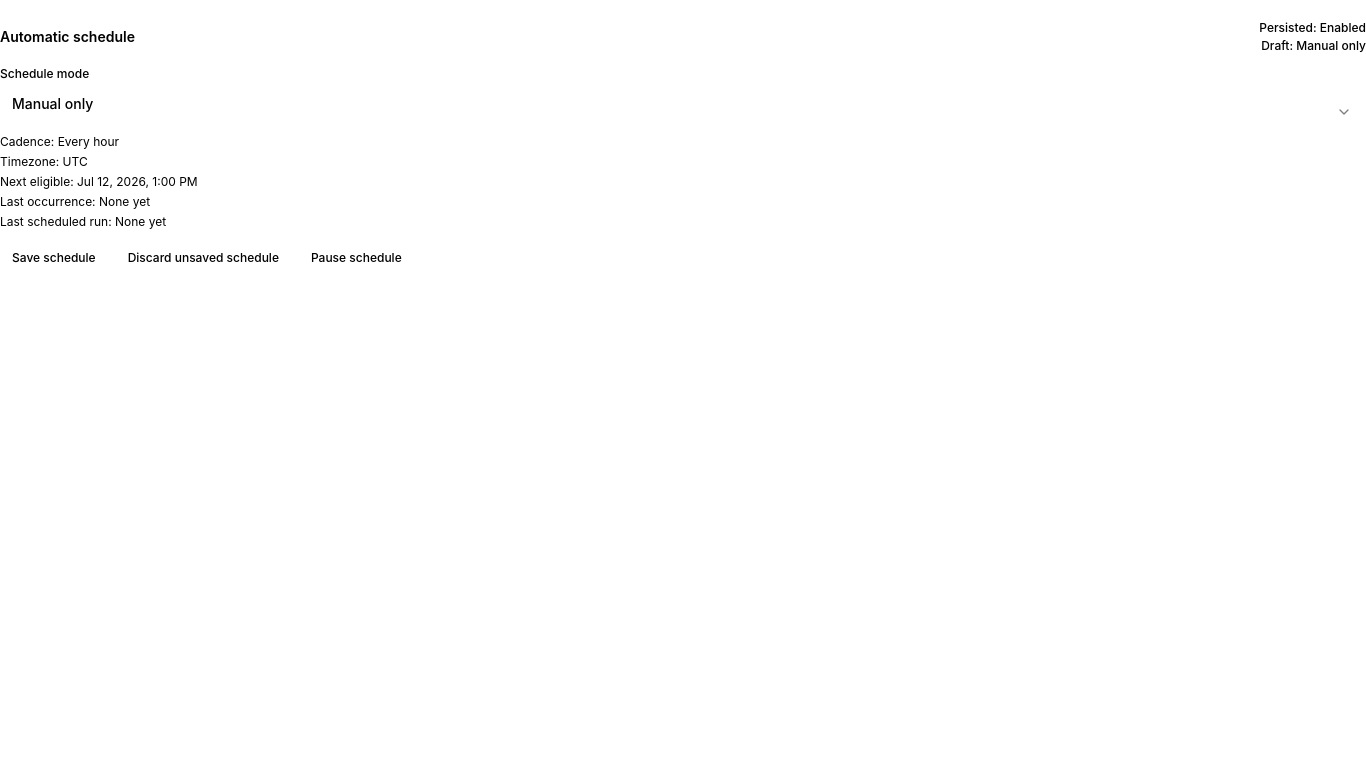
Test: ConnectorScheduleControls manual-only confirmation › asks for confirmation before saving Manual only when a schedule is persisted
The width and height of the screenshot is (1366, 768).
Click the button "Save schedule" at (54, 258), box [0,242,108,274]
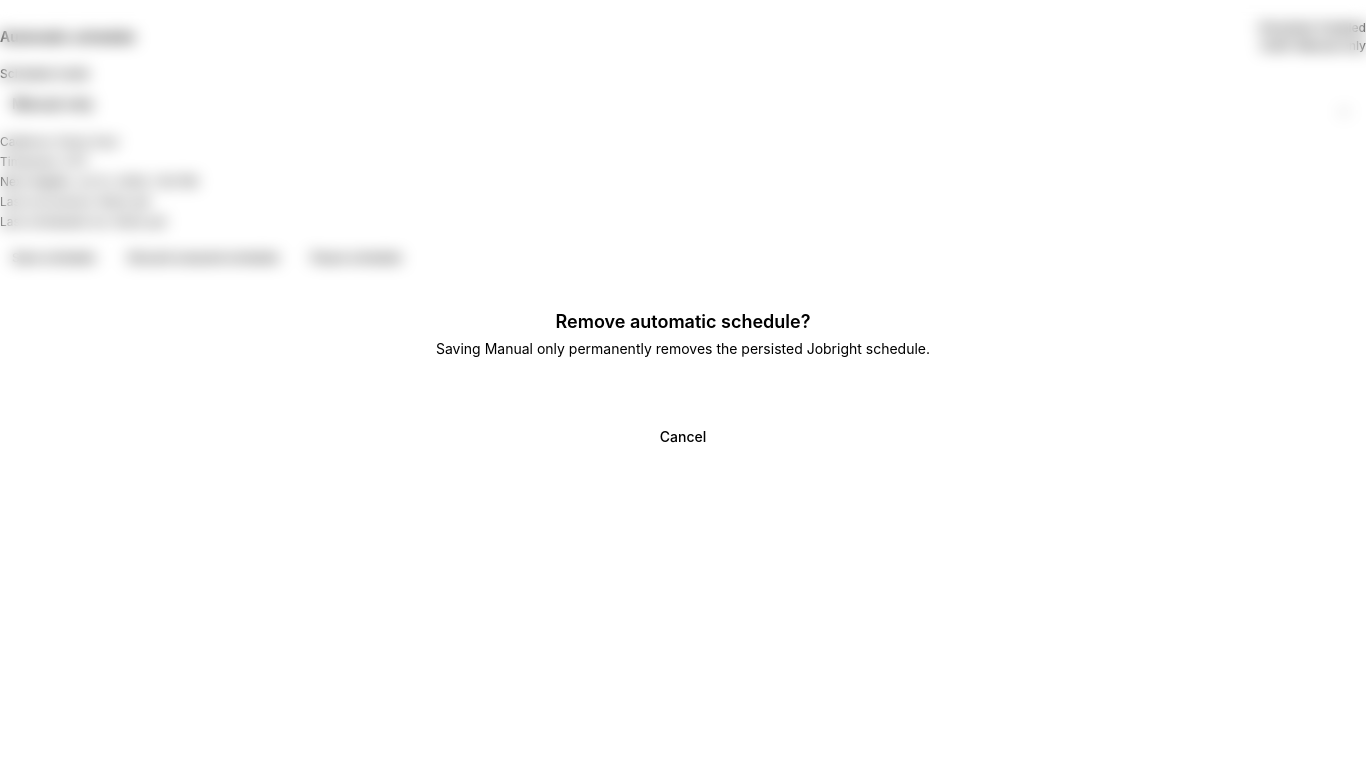
Now the dialog "Remove automatic schedule?" is shown, box [16,289,1350,479]
